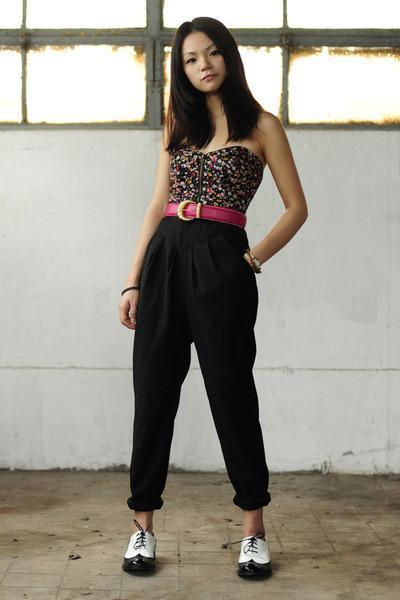pants: (127, 213, 270, 515)
shirt: (167, 132, 267, 203)
shoe: (122, 530, 275, 581)
